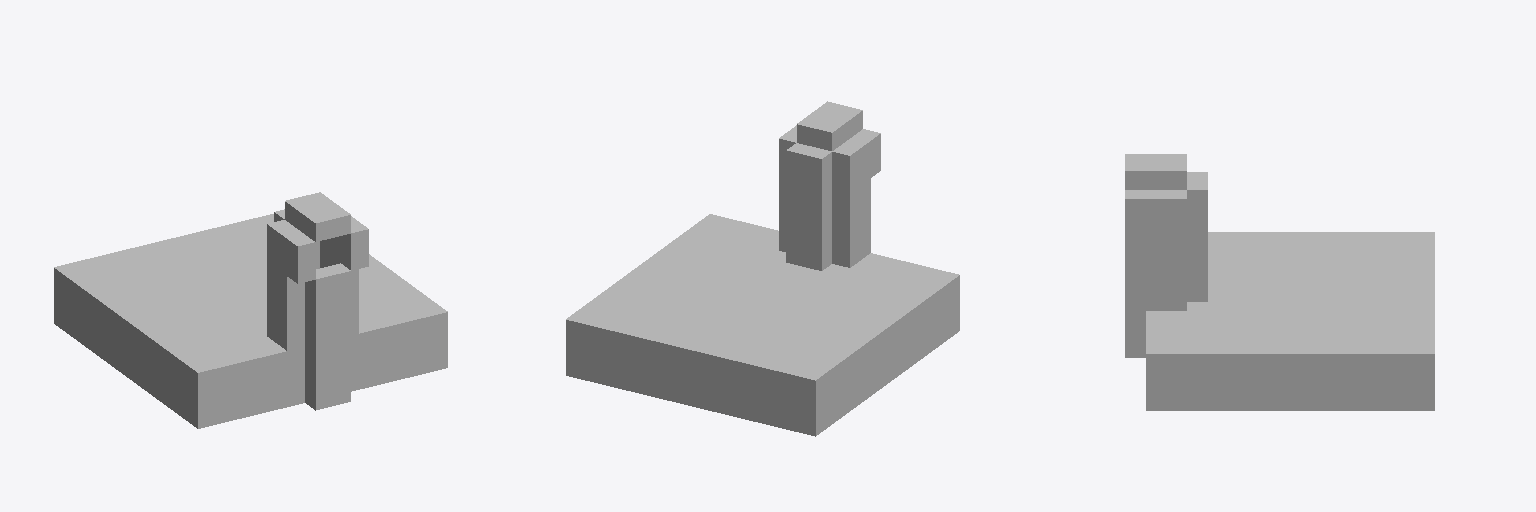
File: air_cannon.obj
3 views of the same model, side by side, from view 1: azimuth 30°, elevation 25°; view 2: azimuth 150°, elevation 25°; view 3: azimuth 270°, elevation 25° (orthographic).
Bounding box in the file's own units: 1 × 0.7143 × 1.07.